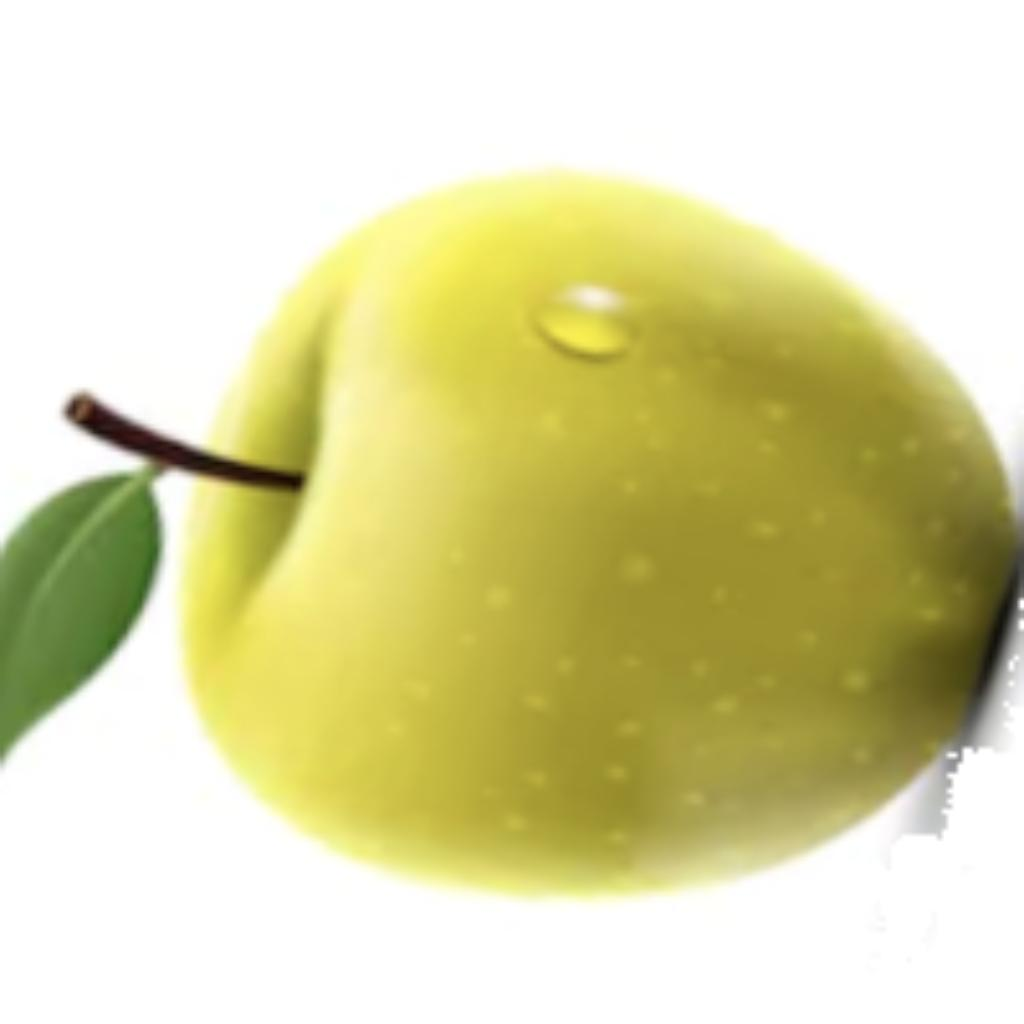apple: (0, 159, 1019, 906)
